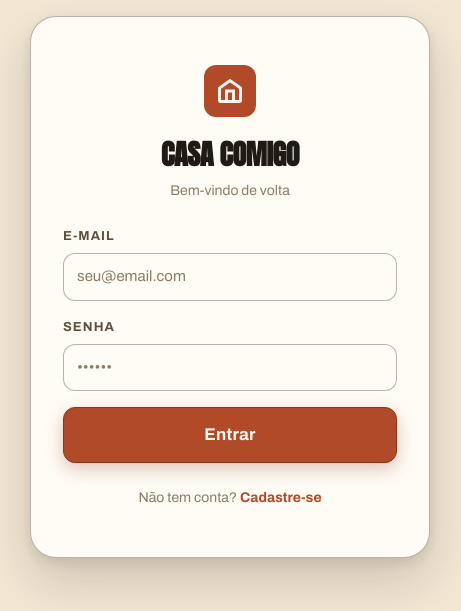
it: Login page › disables submit button while loading
Step 1. Type "a@a.com" into the field labelled "E-mail" → [230, 277], box [63,253,397,301]
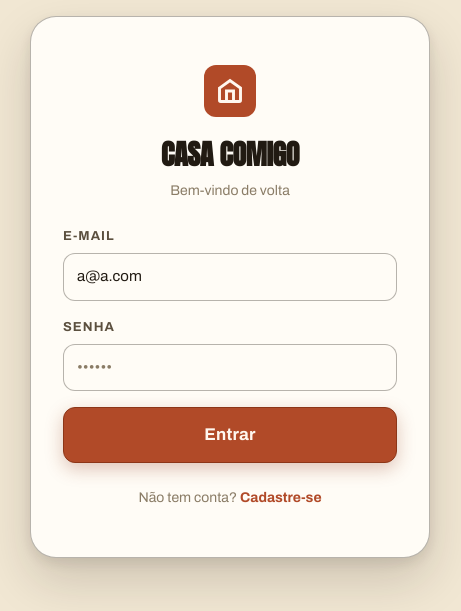
Step 2. Type "123456" into the password field labelled "Senha" → [230, 367], box [63,344,397,391]
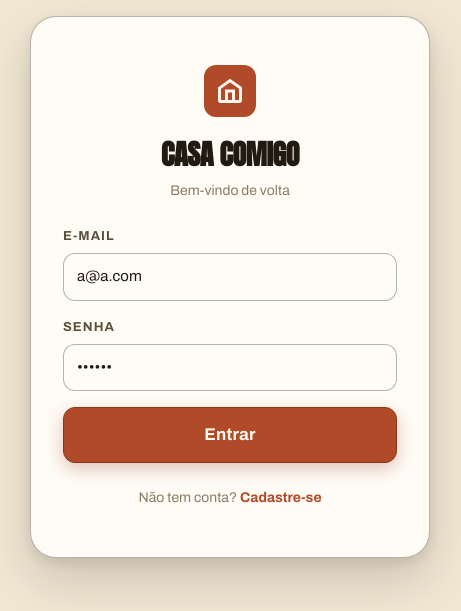
Step 3. Click the button "Entrar" → [230, 435], box [63,407,397,463]
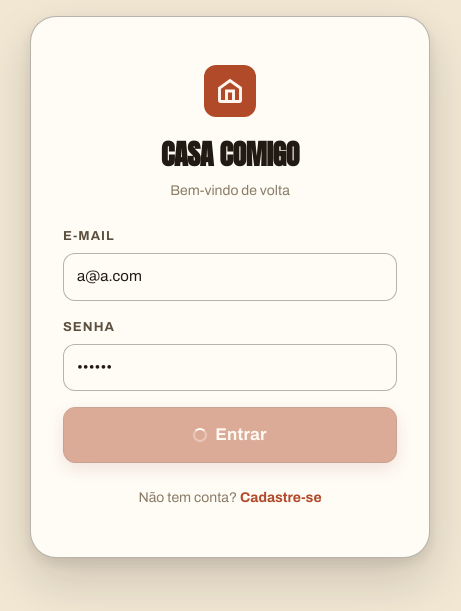
Expected: the button "Entrar" is disabled, [63,407,397,463]
